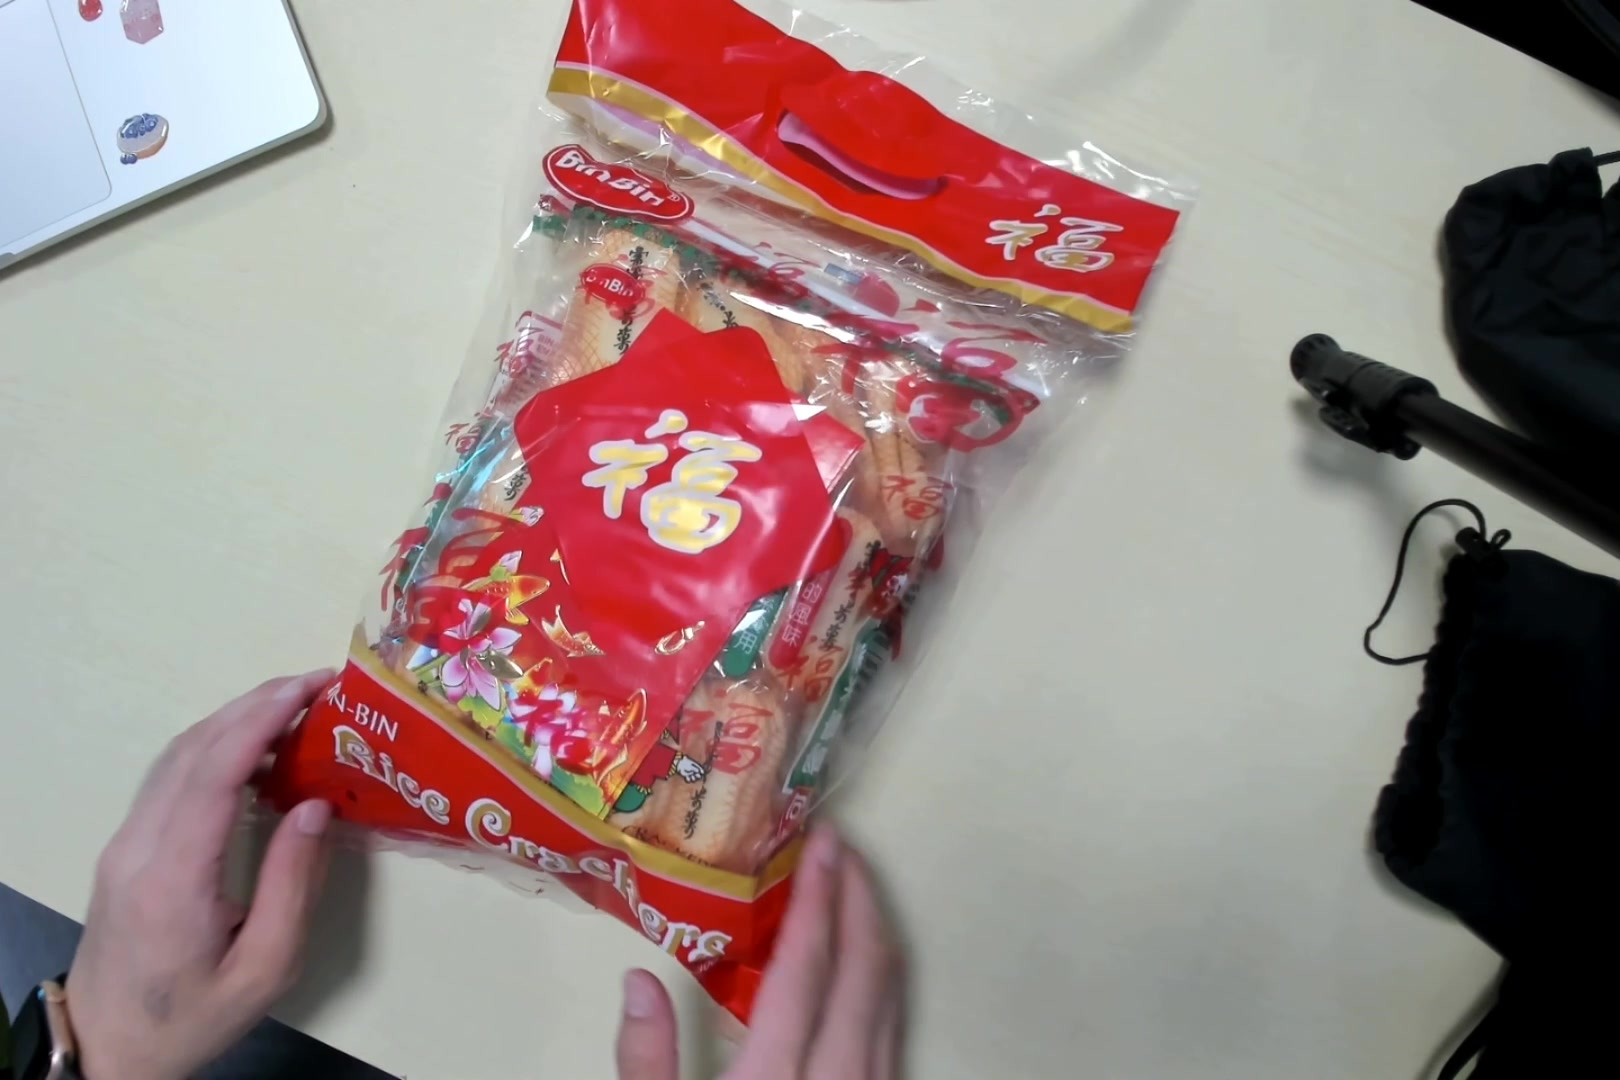PotatoChipsKeropok_300-399g_NonHalal_NonHealthy: (307, 6, 1170, 994)
